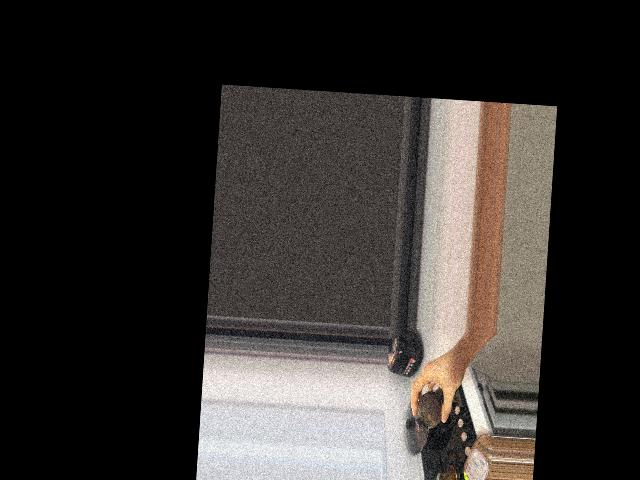beet: (415, 388, 443, 432)
